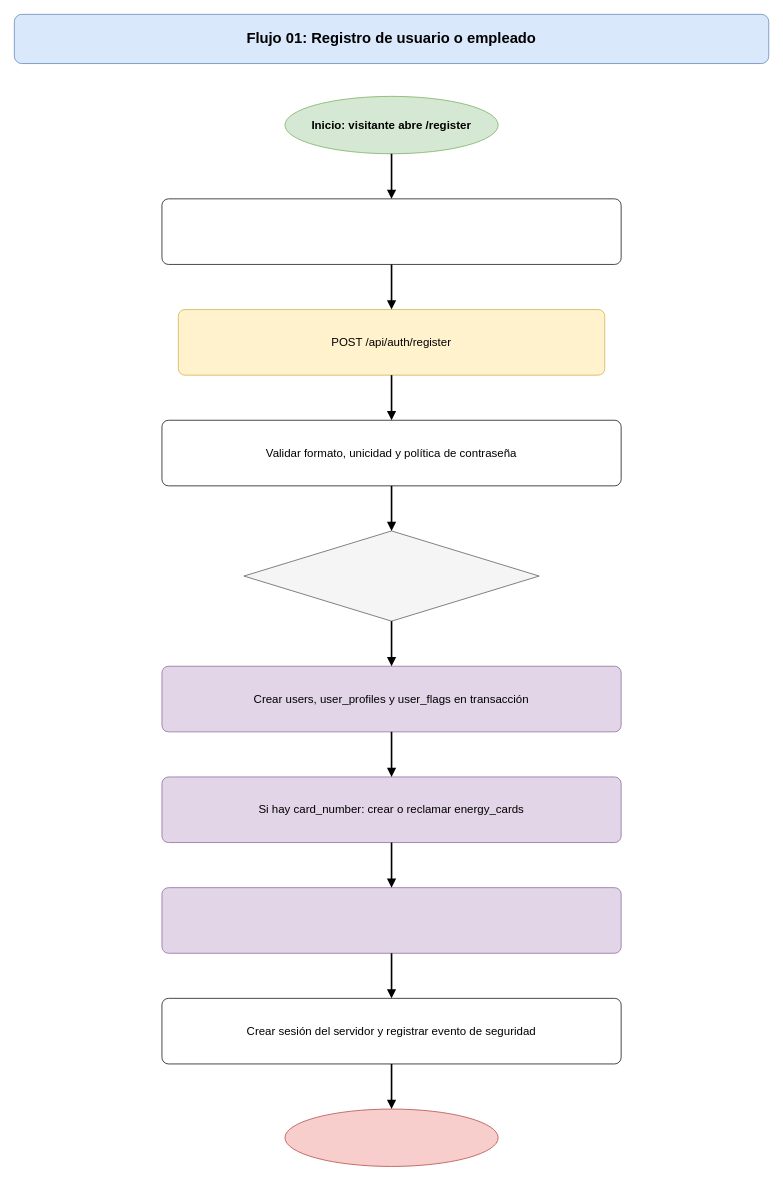
The diagram is 783 pixels wide and 1181 high, and some of its shapes have lost their labels. The centre of each missing label's shape, as x and y in pixels:
"Formulario recibe username, email, password y card_number o employee_code" goes at pixel 391 231.
"Respuesta exitosa y redirección al dashboard" goes at pixel 391 1137.
"Si hay employee_code: marcar employee_codes como usado" goes at pixel 391 920.
"¿Datos válidos y código/tarjeta disponible?" goes at pixel 391 575.
